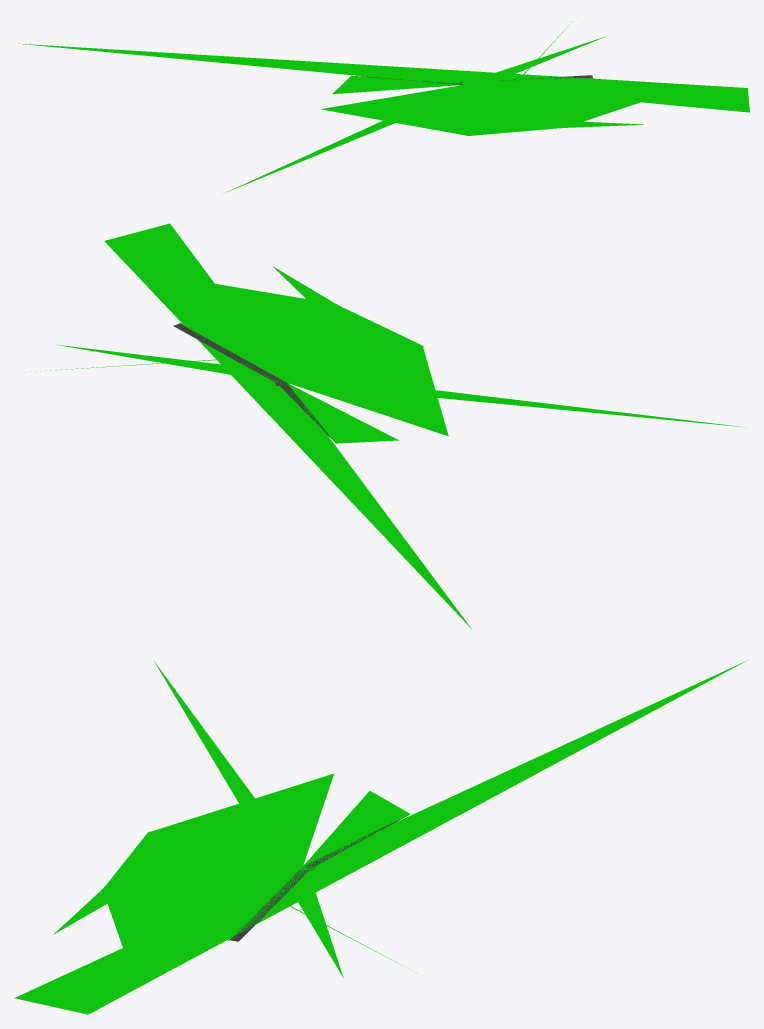
The picture shows the model from 3 angles, top to bottom: view 1: azimuth 30°, elevation 25°; view 2: azimuth 150°, elevation 25°; view 3: azimuth 270°, elevation 25°; orthographic projection. The views are drawn at different scales.
Size of the model in its own units: 300 by 0 by 262.
